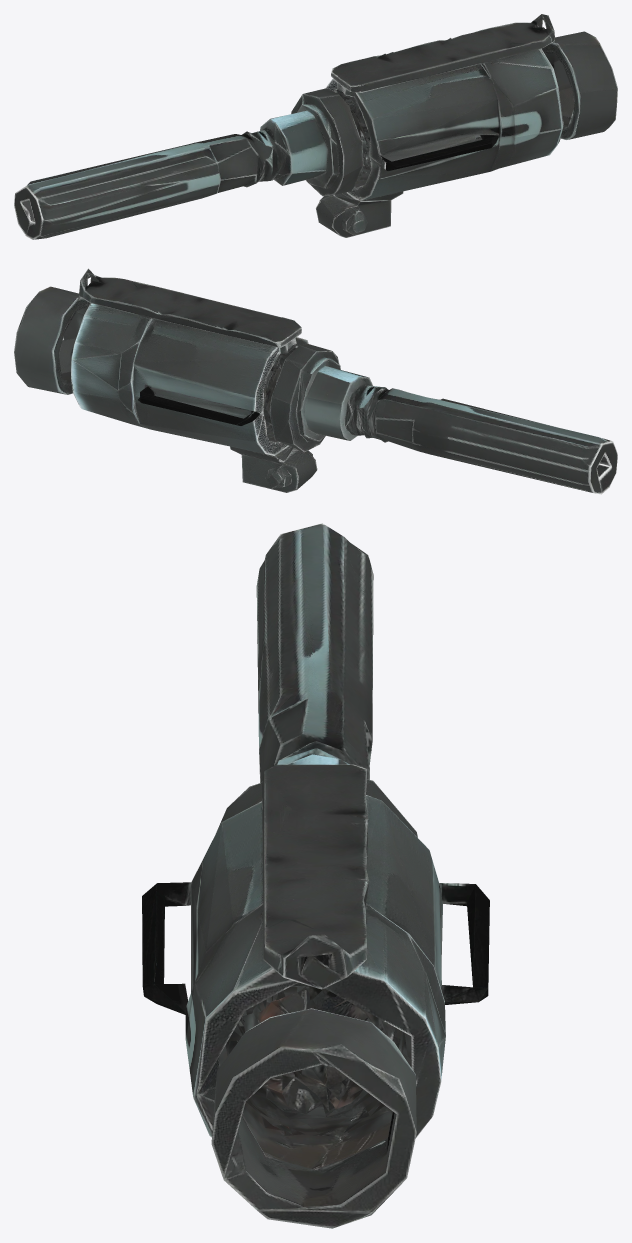
The model's file is mod_quick_action.glb.
The picture shows the model from 3 angles, top to bottom: view 1: azimuth 30°, elevation 25°; view 2: azimuth 150°, elevation 25°; view 3: azimuth 270°, elevation 25°; orthographic projection. The views are drawn at different scales.
Bounding box in the file's own units: 1.9 × 0.531 × 0.5049.
Materials: 1 (1 with a texture image).
